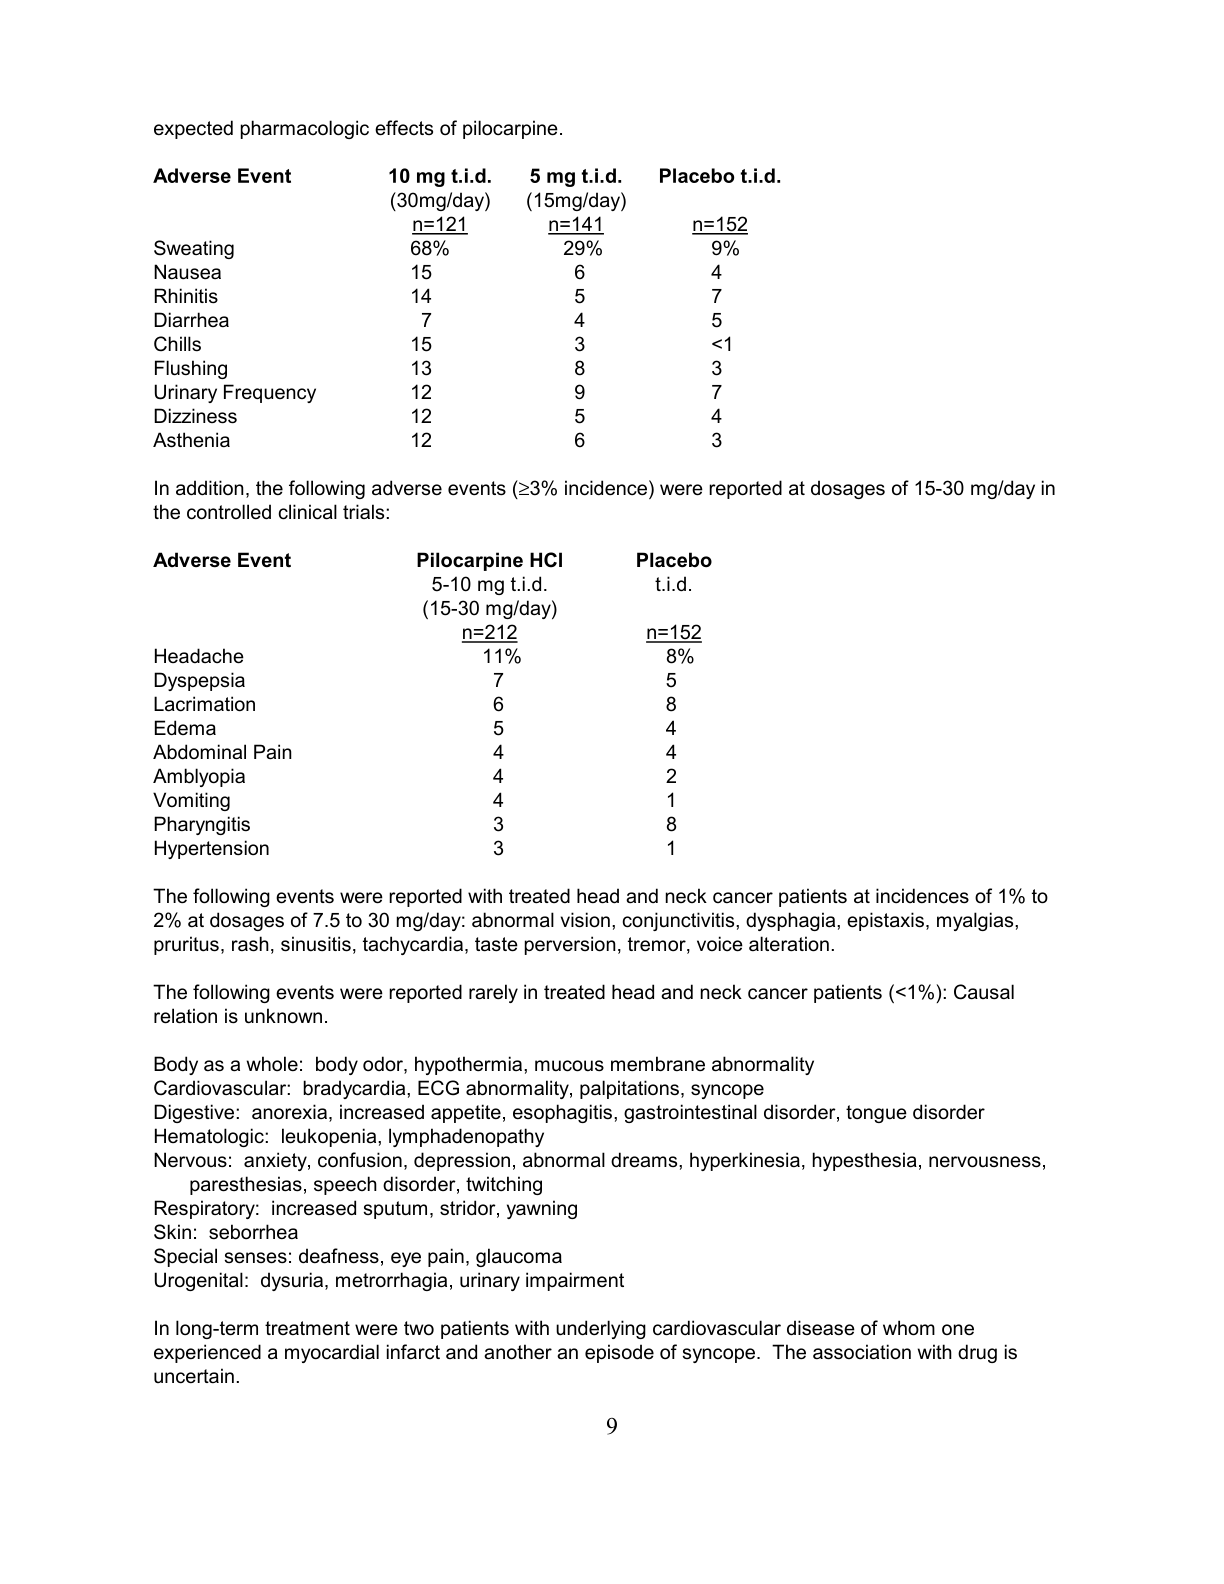nolines: (150, 163, 783, 450), (150, 546, 716, 859)
